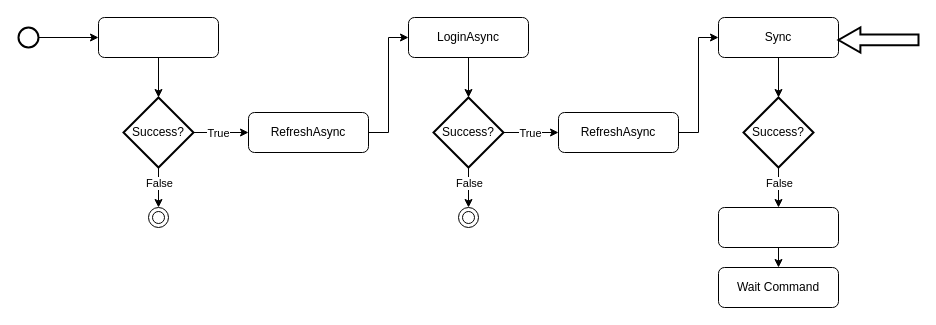
Some shapes in this 936 by 325 pixel diagram are drawn without their labels. The box of each missing label's shape, as (x1, y1, x2, y2) in pixels:
InitializeAsync: (98, 16, 218, 58)
Notify: (718, 206, 838, 248)
Sync Request: (837, 26, 919, 53)
